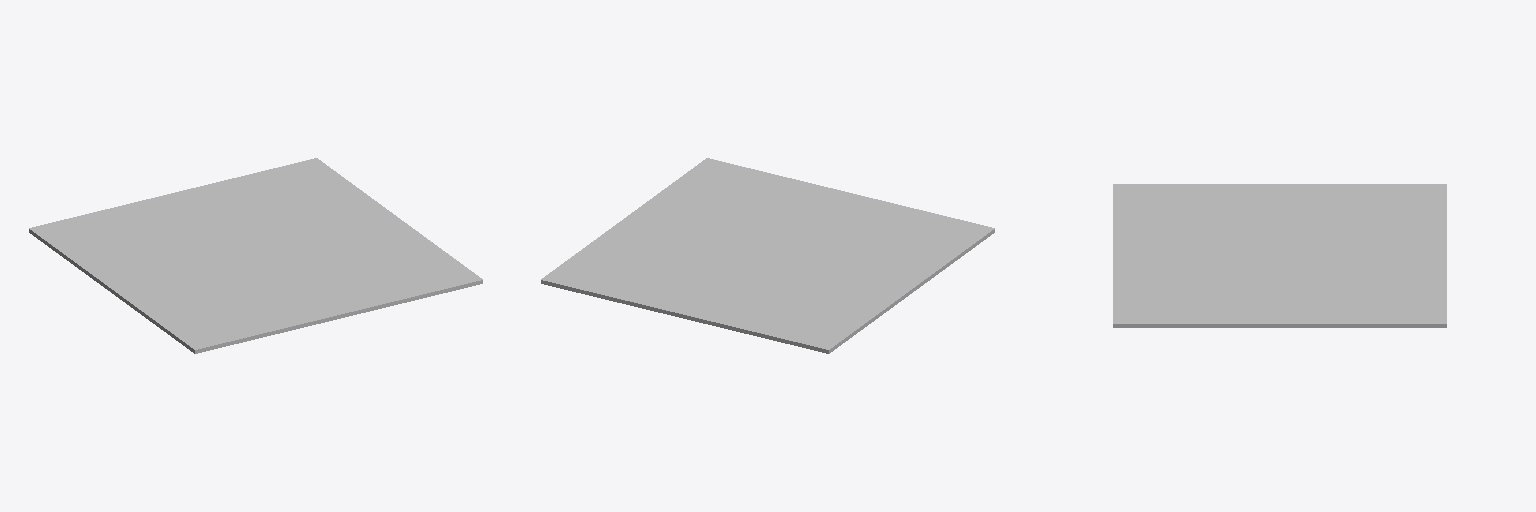
Rendered from ChessBoard.obj.
3 views of the same model, side by side, from view 1: azimuth 30°, elevation 25°; view 2: azimuth 150°, elevation 25°; view 3: azimuth 270°, elevation 25° (orthographic).
Visible parts, largest first — view 1: Chess_Board_Plane.001; view 2: Chess_Board_Plane.001; view 3: Chess_Board_Plane.001.
Part boxes in pixels (x1,y1,x2,y2): Chess_Board_Plane.001: (29,158,482,353); Chess_Board_Plane.001: (541,158,994,353); Chess_Board_Plane.001: (1113,184,1446,327).
Size of the model in its own units: 20 by 0.2617 by 20.